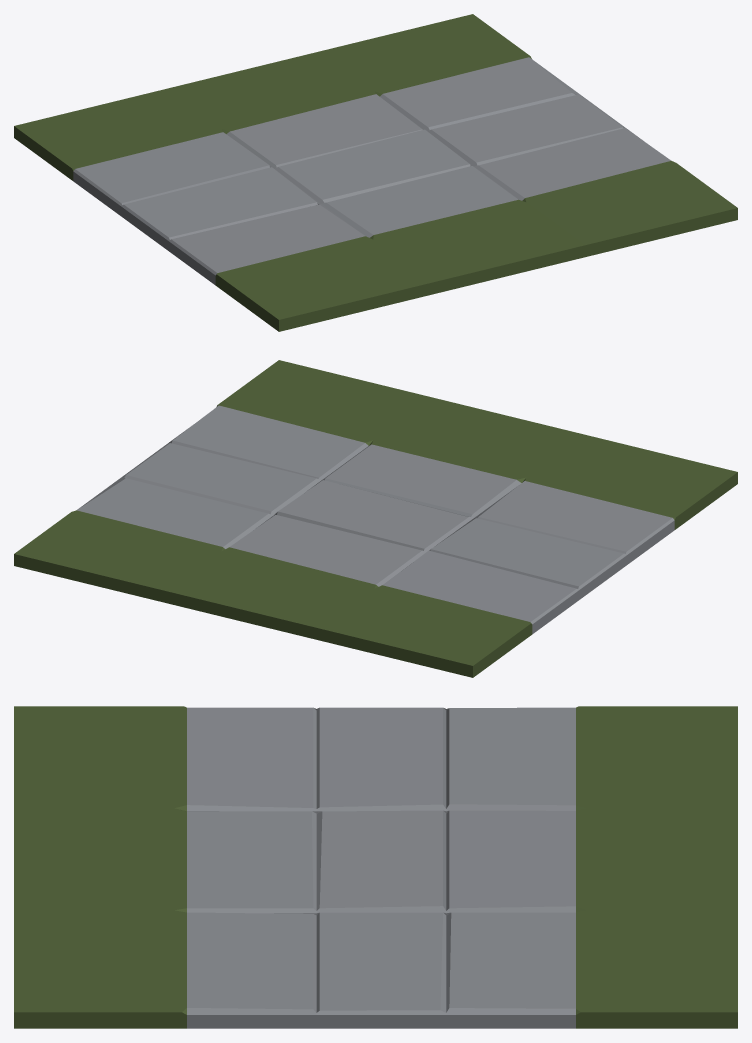
File: Road_022-col.glb
3 views of the same model, one above another, from view 1: azimuth 30°, elevation 25°; view 2: azimuth 150°, elevation 25°; view 3: azimuth 270°, elevation 25° (orthographic). The views are drawn at different scales.
Parts seen in each view (by area): view 1: Sidewalk_05_C-col; view 2: Sidewalk_05_C-col; view 3: Sidewalk_05_C-col.
Boxes of the visible parts, bbox=[...] form: Sidewalk_05_C-col: bbox=[14, 14, 737, 331]; Sidewalk_05_C-col: bbox=[14, 360, 737, 677]; Sidewalk_05_C-col: bbox=[14, 706, 737, 1028].
Size of the model in its own units: 2 by 0.057 by 2.
Materials: 1 (1 with a texture image).
